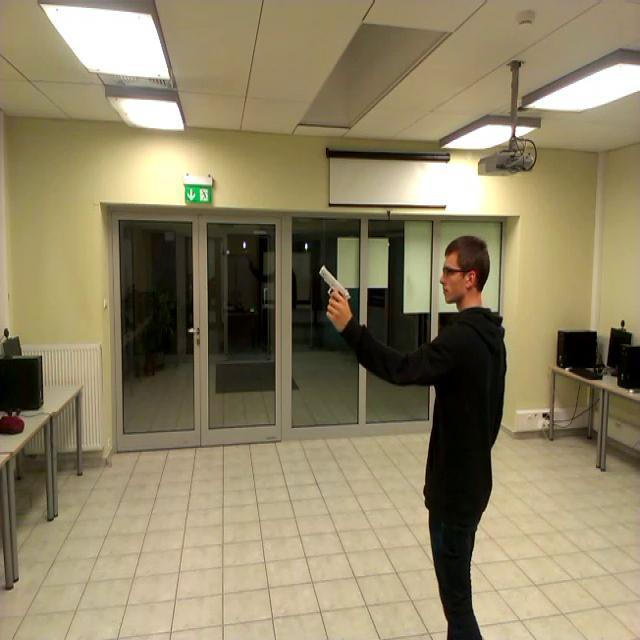Gun: (320, 264, 352, 315)
